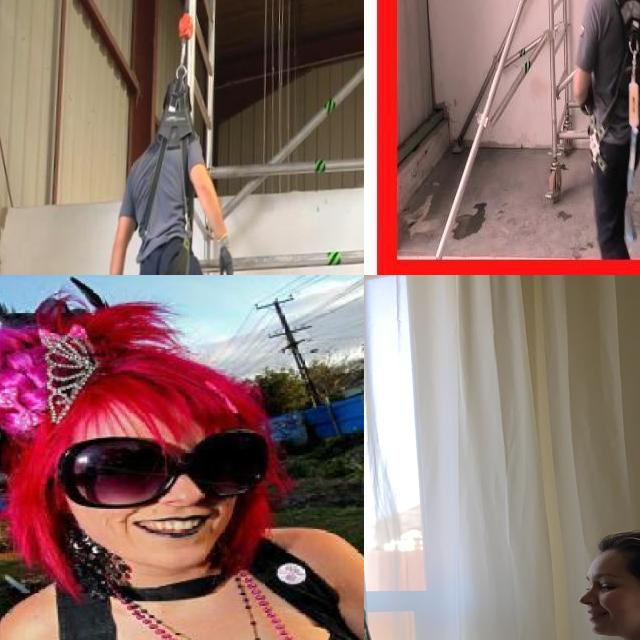Harness: (139, 67, 196, 244), (615, 0, 640, 188)
face_nomask: (81, 434, 235, 558)
glasses: (51, 426, 269, 501)
head_nohelmet: (13, 294, 247, 436)
person: (0, 289, 364, 640)
